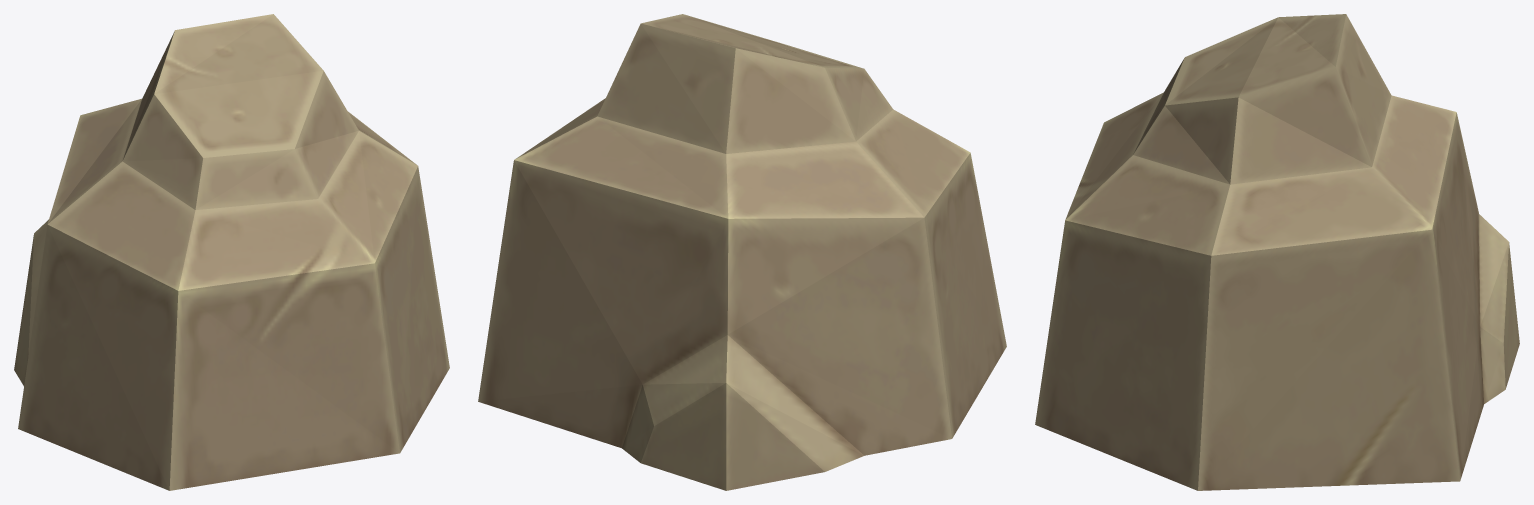
The model's file is Stone06.FBX.
3 views of the same model, side by side, from view 1: azimuth 30°, elevation 25°; view 2: azimuth 150°, elevation 25°; view 3: azimuth 270°, elevation 25° (orthographic). The views are drawn at different scales.
Visible parts, largest first — view 1: Stone06; view 2: Stone06; view 3: Stone06.
Boxes of the visible parts, x1=… form: Stone06: x1=14, y1=14, x2=449, y2=490; Stone06: x1=478, y1=14, x2=1006, y2=490; Stone06: x1=1035, y1=14, x2=1519, y2=490.
Bounding box in the file's own units: 271 × 227 × 271.
